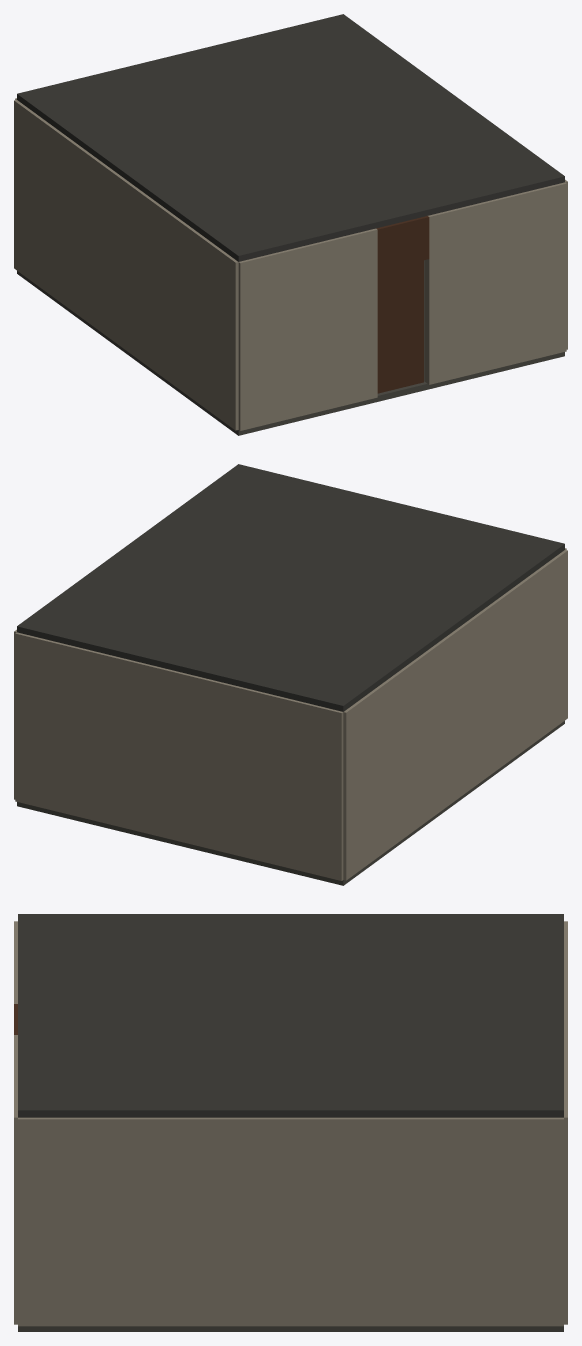
The model's file is quarto_07_blockout.glb.
The picture shows the model from 3 angles, top to bottom: view 1: azimuth 30°, elevation 25°; view 2: azimuth 150°, elevation 25°; view 3: azimuth 270°, elevation 25°; orthographic projection. The views are drawn at different scales.
Visible parts, largest first — view 1: room_ceiling, wall_left, wall_front_right, wall_front_left, door_01, room_floor, wall_front_door_top; view 2: room_ceiling, wall_back, wall_left, room_floor; view 3: wall_right, room_ceiling, room_floor, wall_back, wall_front_right.
Boxes of the visible parts, box(x1,y1,x2,y2) form: room_ceiling: box(17, 14, 564, 261); wall_left: box(14, 100, 238, 430); wall_front_right: box(424, 182, 566, 384); wall_front_left: box(238, 228, 377, 430); door_01: box(377, 260, 423, 393); room_floor: box(17, 260, 564, 435); wall_front_door_top: box(376, 216, 429, 271); room_ceiling: box(17, 464, 564, 711); wall_back: box(15, 632, 343, 880); wall_left: box(343, 550, 567, 880); room_floor: box(17, 721, 564, 885); wall_right: box(18, 1117, 563, 1326); room_ceiling: box(18, 914, 563, 1117); room_floor: box(18, 1326, 563, 1331); wall_back: box(564, 921, 567, 1324); wall_front_right: box(14, 1035, 17, 1324).
Bounding box in the file's own units: 5.8 × 3 × 6.8.
